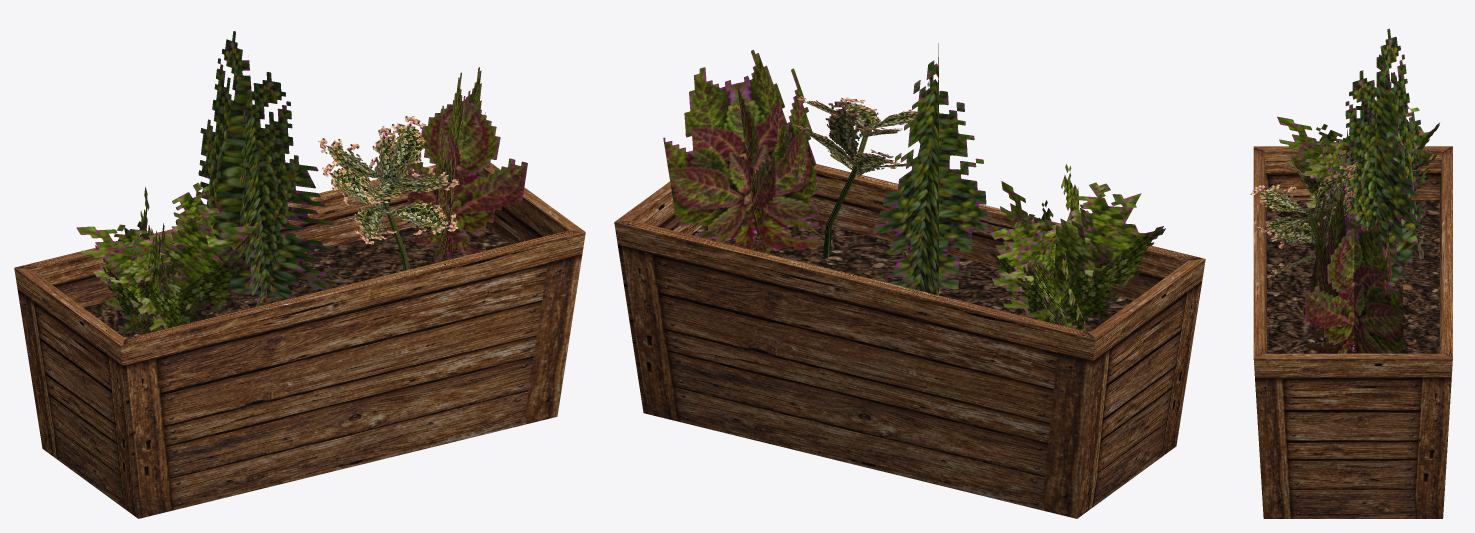
Rendered from mm9_deco_pottedplant1.glb.
3 views of the same model, side by side, from view 1: azimuth 30°, elevation 25°; view 2: azimuth 150°, elevation 25°; view 3: azimuth 270°, elevation 25° (orthographic). The views are drawn at different scales.
Parts seen in each view (by area): view 1: Pottedplant1; view 2: Pottedplant1; view 3: Pottedplant1.
Boxes of the visible parts, left/top/right/bottom form: Pottedplant1: left=14, top=31, right=585, bottom=518; Pottedplant1: left=614, top=43, right=1205, bottom=518; Pottedplant1: left=1250, top=28, right=1452, bottom=518.
Bounding box in the file's own units: 0.4545 × 0.37 × 0.2003.
2 materials, 2 textured.
